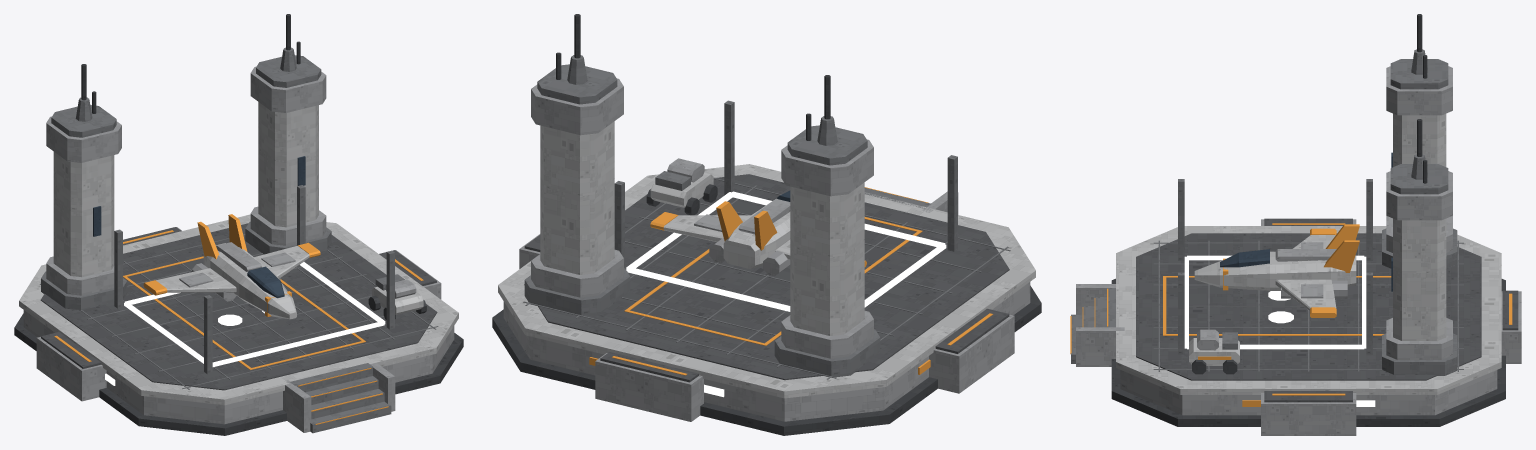
The model's file is upgradeBay_lod1.glb.
The picture shows the model from 3 angles, left to right: view 1: azimuth 30°, elevation 25°; view 2: azimuth 150°, elevation 25°; view 3: azimuth 270°, elevation 25°; orthographic projection. The views are drawn at different scales.
Visible parts, largest first — view 1: upgradeBay_base_body.001, upgradeBay_craft_body.001, upgradeBay_scan_glow.001, upgradeBay_base_trim.001, upgradeBay_craft_trim.001; view 2: upgradeBay_base_body.001, upgradeBay_craft_body.001, upgradeBay_scan_glow.001, upgradeBay_base_trim.001, upgradeBay_craft_trim.001; view 3: upgradeBay_base_body.001, upgradeBay_craft_body.001, upgradeBay_scan_glow.001, upgradeBay_craft_trim.001, upgradeBay_base_trim.001, upgradeBay_base_glow.001.
Part boxes in pixels (left/top/right/bottom): upgradeBay_base_body.001: left=14, top=14, right=463, bottom=435; upgradeBay_craft_body.001: left=156, top=242, right=309, bottom=319; upgradeBay_scan_glow.001: left=124, top=262, right=385, bottom=367; upgradeBay_base_trim.001: left=54, top=230, right=423, bottom=424; upgradeBay_craft_trim.001: left=143, top=214, right=320, bottom=316; upgradeBay_base_body.001: left=492, top=14, right=1041, bottom=435; upgradeBay_craft_body.001: left=663, top=190, right=790, bottom=276; upgradeBay_scan_glow.001: left=626, top=191, right=946, bottom=311; upgradeBay_base_trim.001: left=589, top=187, right=993, bottom=375; upgradeBay_craft_trim.001: left=650, top=201, right=866, bottom=266; upgradeBay_base_body.001: left=1071, top=14, right=1521, bottom=435; upgradeBay_craft_body.001: left=1194, top=235, right=1356, bottom=310; upgradeBay_scan_glow.001: left=1184, top=255, right=1366, bottom=349; upgradeBay_craft_trim.001: left=1223, top=224, right=1359, bottom=317; upgradeBay_base_trim.001: left=1070, top=223, right=1512, bottom=406; upgradeBay_base_glow.001: left=1268, top=291, right=1375, bottom=406.
Size of the model in its own units: 3.94 by 2.75 by 4.07.
Materials: 3 (1 with a texture image).
